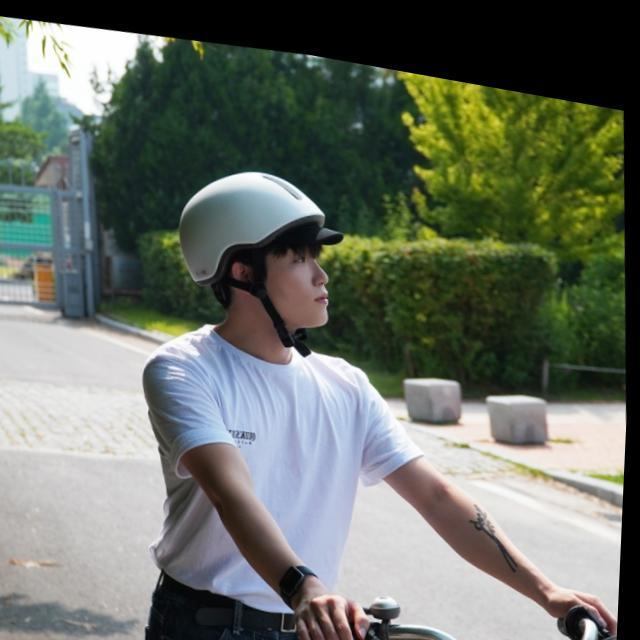Helmet: (174, 166, 347, 350)
